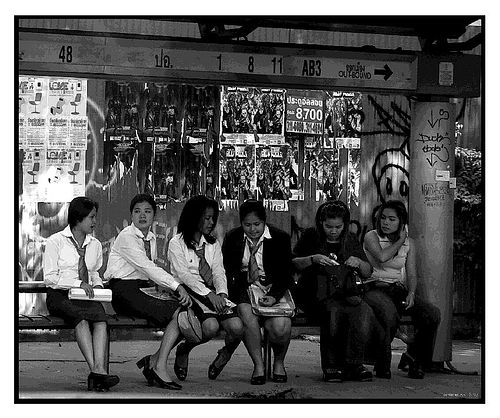without_mask: (187, 201, 220, 243), (68, 198, 101, 239), (373, 204, 408, 239), (236, 206, 269, 241), (317, 211, 350, 245), (130, 197, 158, 233)
